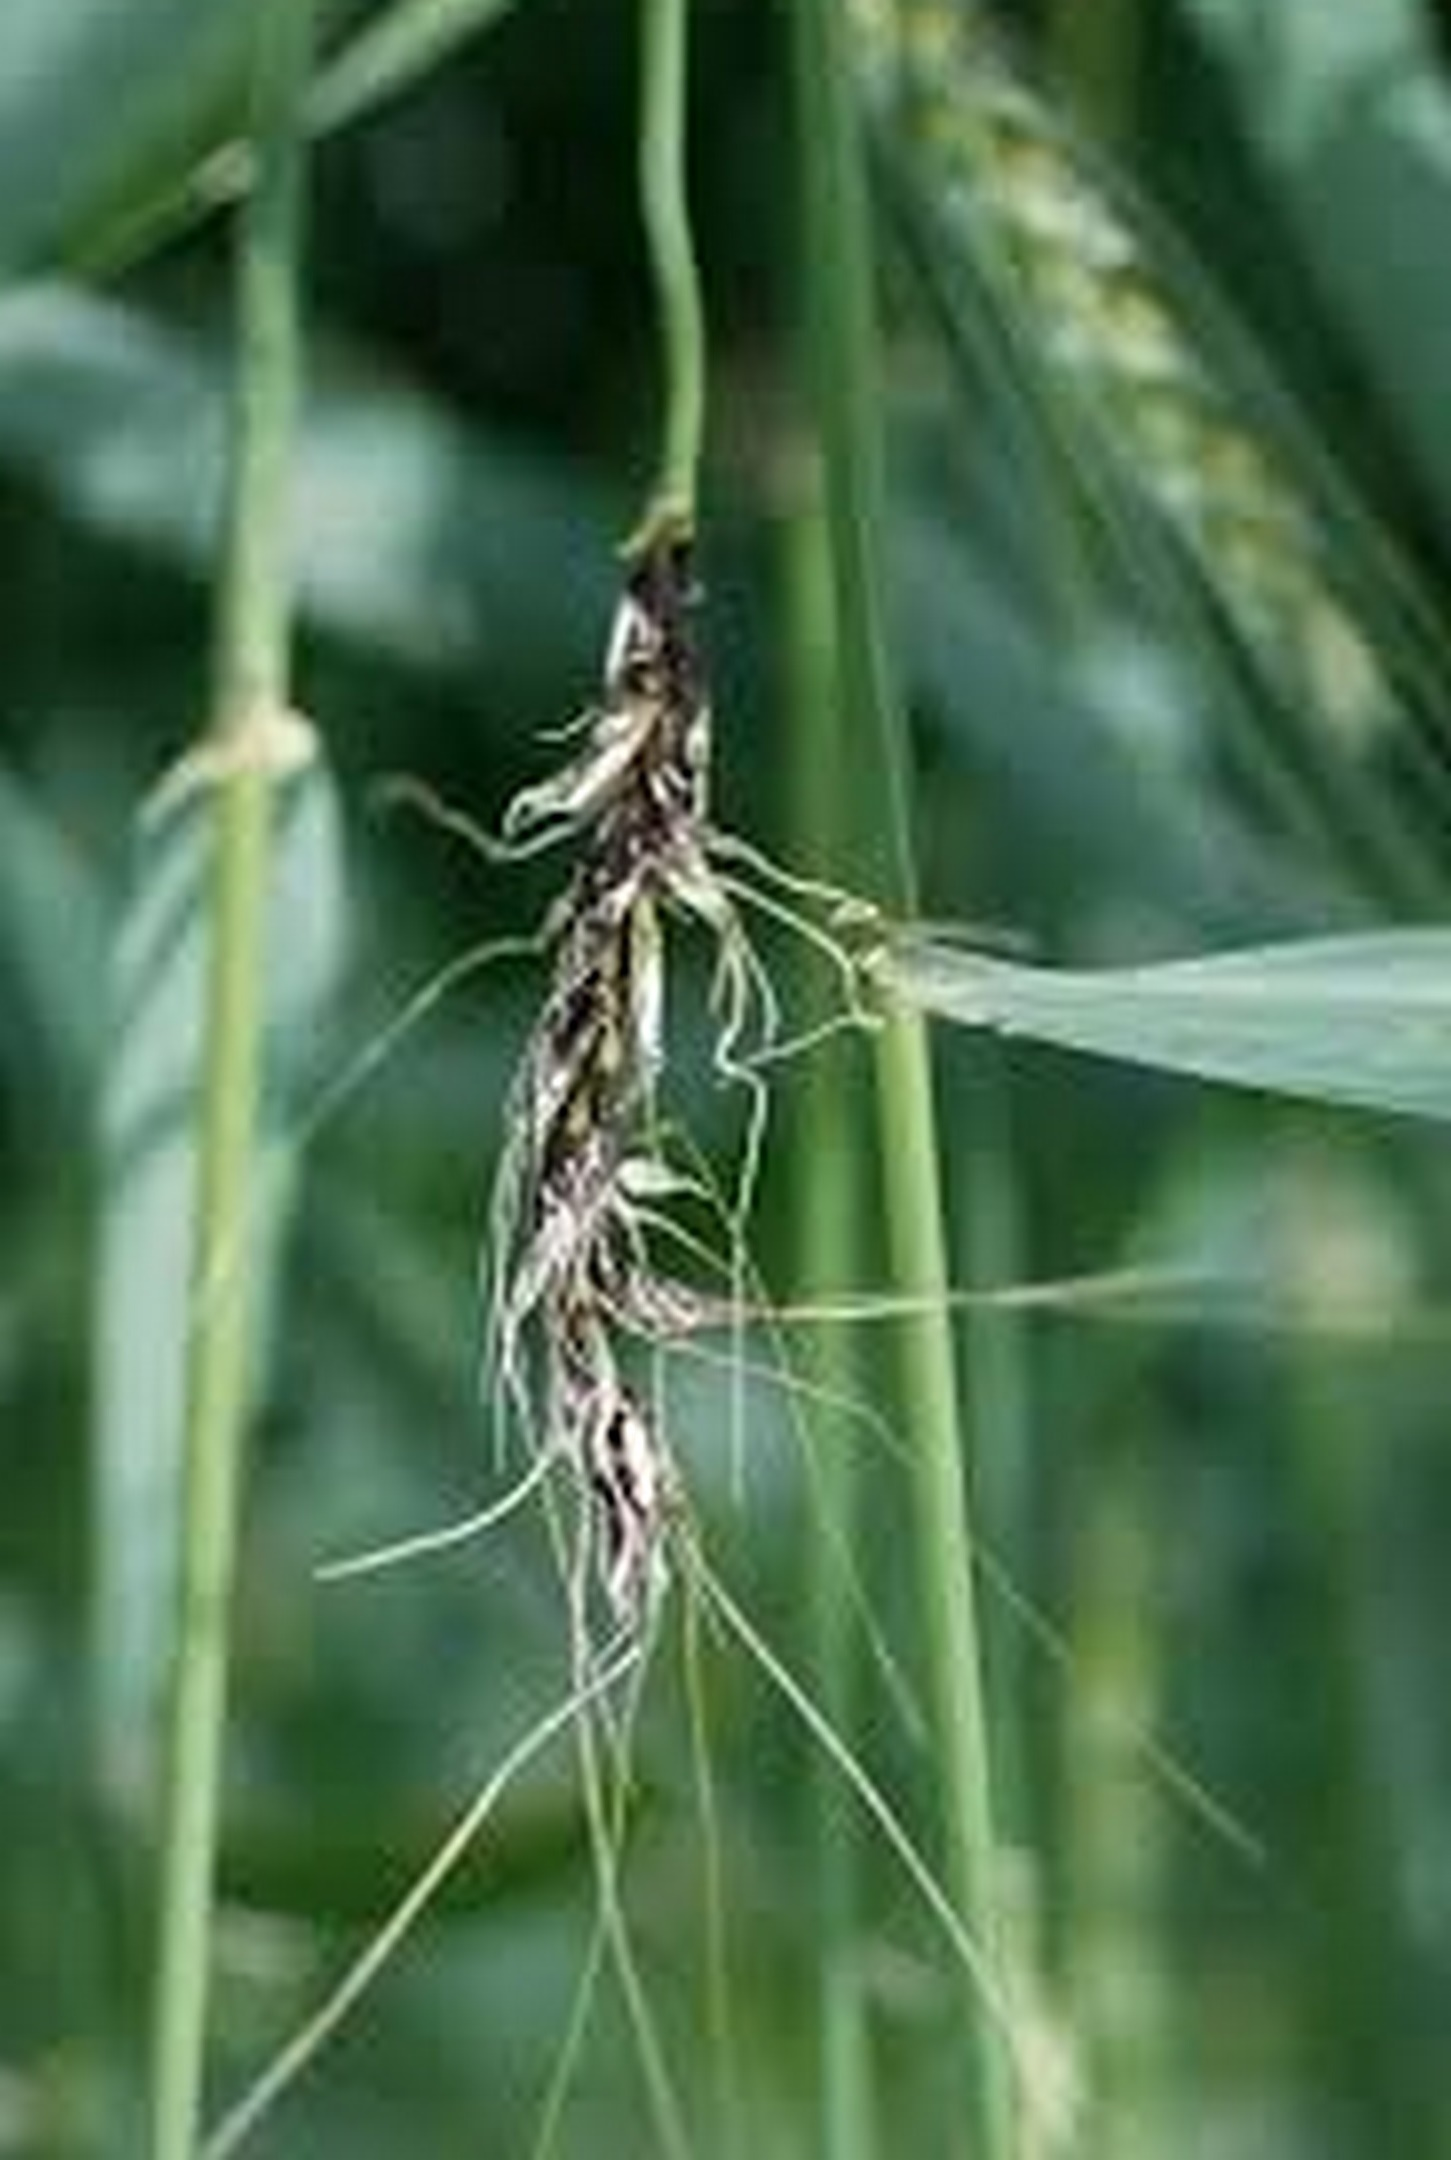Wheat Loose Smut: (499, 512, 803, 1648)
